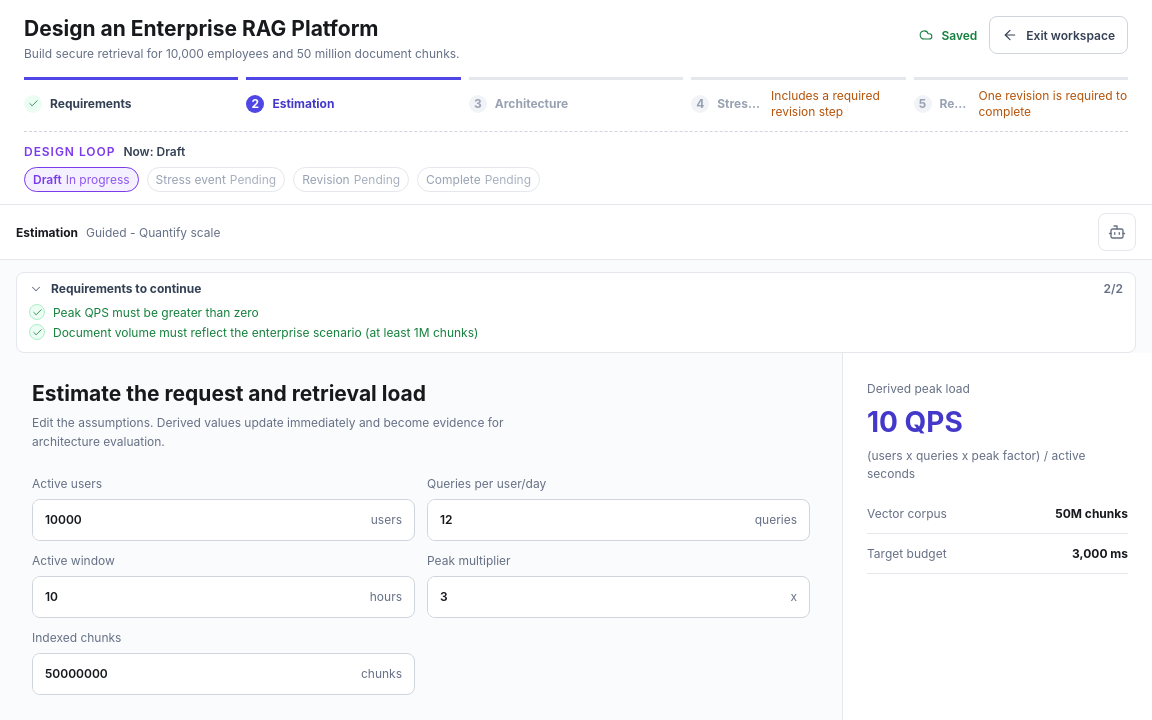
Test: MissionWorkspace estimation input guarding › clamps negative input to zero
This screenshot has width=1152, height=720.
Replace the text in the number field labelled "Peak multiplier x" with "-5" at (603, 597), box top-left (428, 577), bottom-right (778, 617)
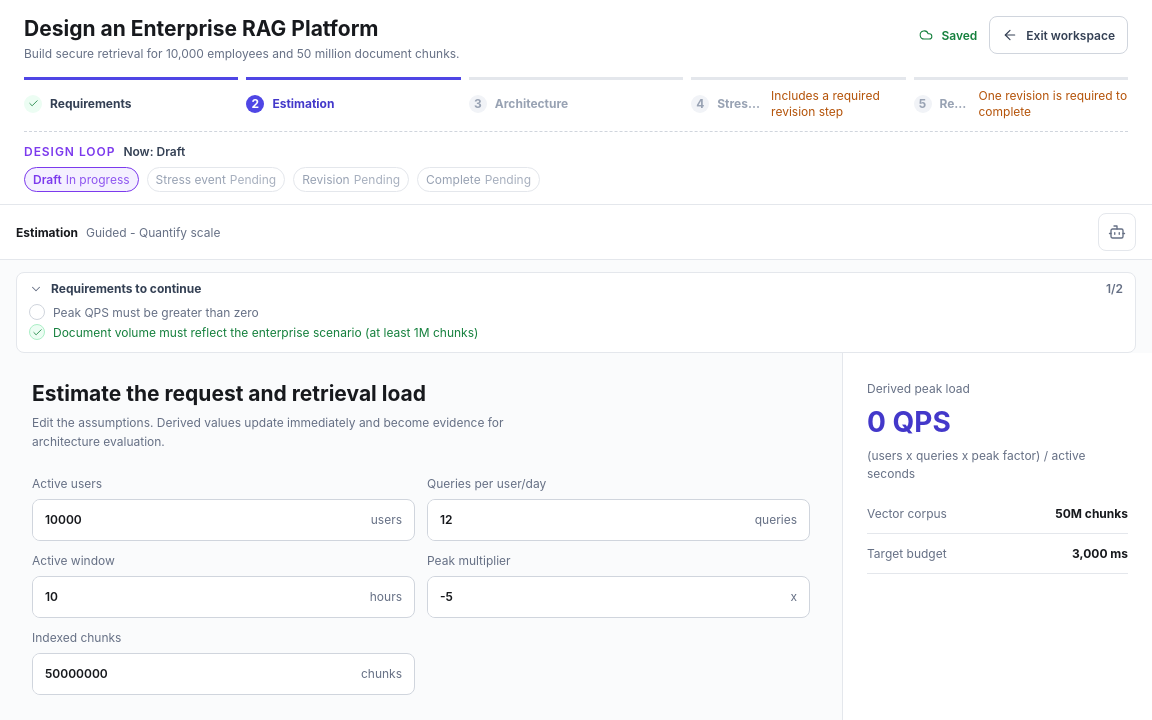
Result: the text "0 QPS" is shown at top-left (867, 405), bottom-right (951, 439)
